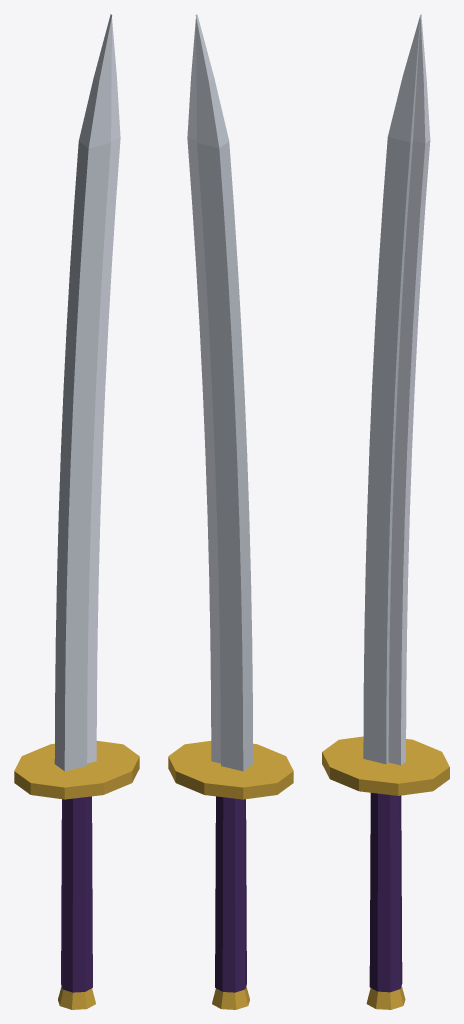
Rendered from Sword_Enma.fbx.
The picture shows the model from 3 angles, left to right: view 1: azimuth 30°, elevation 25°; view 2: azimuth 150°, elevation 25°; view 3: azimuth 330°, elevation 25°; orthographic projection.
Parts seen in each view (by area): view 1: Sword_Enma; view 2: Sword_Enma; view 3: Sword_Enma.
Boxes of the visible parts, <box> form: Sword_Enma: <box>14,14,139,1009</box>; Sword_Enma: <box>168,14,293,1009</box>; Sword_Enma: <box>322,14,449,1009</box>.
Size of the model in its own units: 0.5706 by 4.89 by 0.48.
Materials: 1 (1 with a texture image).
